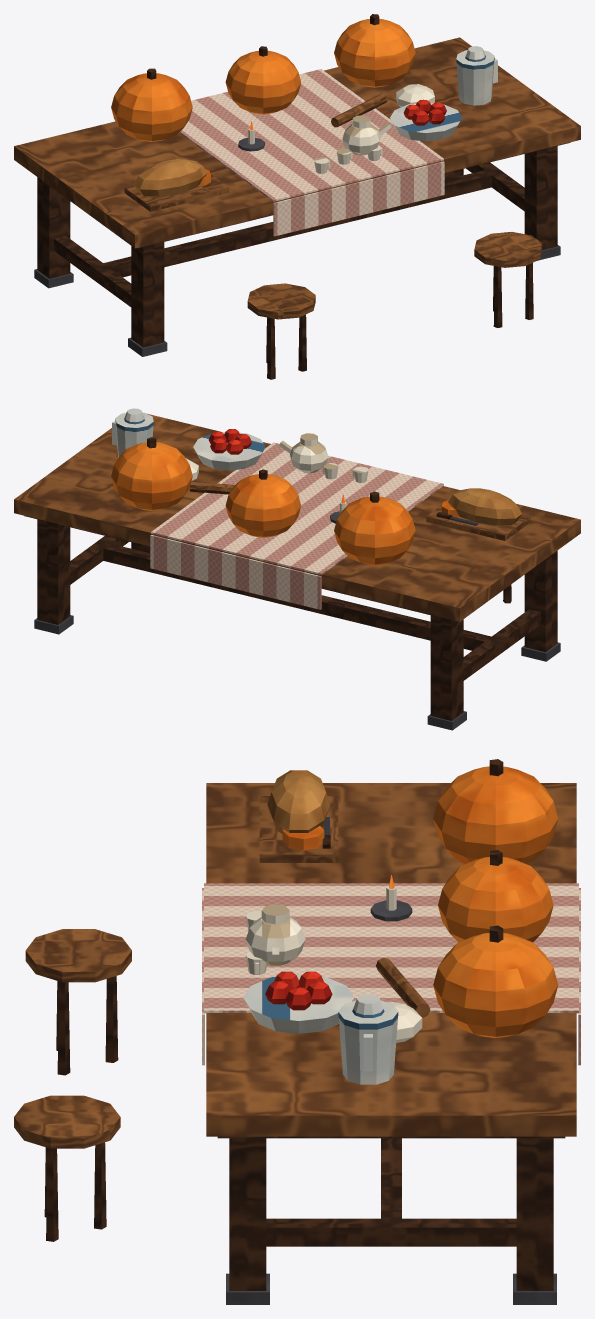
Rendered from table.glb.
3 views of the same model, one above another, from view 1: azimuth 30°, elevation 25°; view 2: azimuth 150°, elevation 25°; view 3: azimuth 270°, elevation 25° (orthographic). The views are drawn at different scales.
Parts seen in each view (by area): view 1: table__K_oak, table__K_cloth, table__K_darkwood, table__K_carrot, table__K_ceramic, table__K_cream, table__K_bread, table__K_iron, table__K_tomato; view 2: table__K_oak, table__K_cloth, table__K_darkwood, table__K_carrot, table__K_ceramic, table__K_bread, table__K_cream, table__K_iron, table__K_tomato; view 3: table__K_oak, table__K_carrot, table__K_darkwood, table__K_cloth, table__K_ceramic, table__K_cream, table__K_bread, table__K_iron, table__K_tomato.
Part boxes in pixels (<box>): table__K_oak: <box>14,37,580,319</box>; table__K_cloth: <box>179,69,444,236</box>; table__K_darkwood: <box>37,14,570,379</box>; table__K_carrot: <box>111,19,415,186</box>; table__K_ceramic: <box>390,46,497,141</box>; table__K_cream: <box>248,84,434,173</box>; table__K_bread: <box>133,159,207,197</box>; table__K_iron: <box>34,138,560,356</box>; table__K_tomato: <box>403,99,446,125</box>; table__K_oak: <box>14,413,580,621</box>; table__K_cloth: <box>150,442,443,609</box>; table__K_darkwood: <box>24,437,557,720</box>; table__K_carrot: <box>111,442,459,565</box>; table__K_ceramic: <box>112,408,265,470</box>; table__K_bread: <box>448,488,521,526</box>; table__K_cream: <box>186,433,368,513</box>; table__K_iron: <box>34,511,560,730</box>; table__K_tomato: <box>208,429,251,454</box>; table__K_oak: <box>14,783,576,1148</box>; table__K_carrot: <box>282,766,558,1038</box>; table__K_darkwood: <box>44,759,565,1290</box>; table__K_cloth: <box>202,883,580,1065</box>; table__K_ceramic: <box>243,974,398,1084</box>; table__K_cream: <box>245,886,422,1042</box>; table__K_bread: <box>267,770,330,833</box>; table__K_iron: <box>226,817,556,1304</box>; table__K_tomato: <box>265,971,332,1010</box>.
Size of the model in its own units: 3.4 by 1.45 by 2.45.
Materials: 10 (10 with a texture image).
